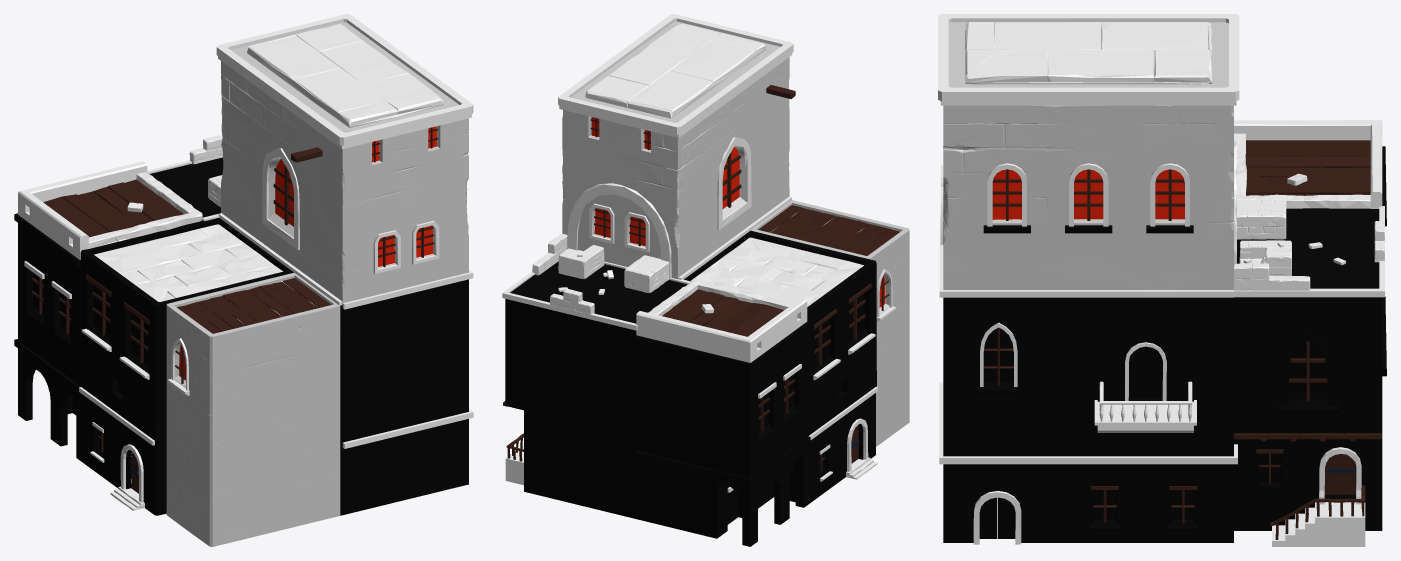
Rendered from civilian_house_10.FBX.
3 views of the same model, side by side, from view 1: azimuth 30°, elevation 25°; view 2: azimuth 150°, elevation 25°; view 3: azimuth 270°, elevation 25° (orthographic). The views are drawn at different scales.
Parts seen in each view (by area): view 1: civilian_house_10; view 2: civilian_house_10; view 3: civilian_house_10.
Part boxes in pixels (x1=…): civilian_house_10: x1=14, y1=14, x2=473, y2=546; civilian_house_10: x1=502, y1=14, x2=909, y2=546; civilian_house_10: x1=938, y1=14, x2=1386, y2=546.
Size of the model in its own units: 1902 by 2191 by 1945.
